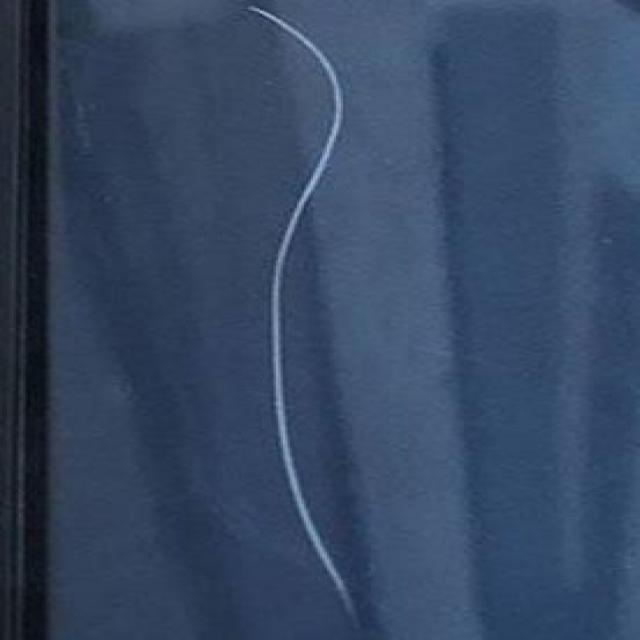scratch: (236, 2, 378, 632)
